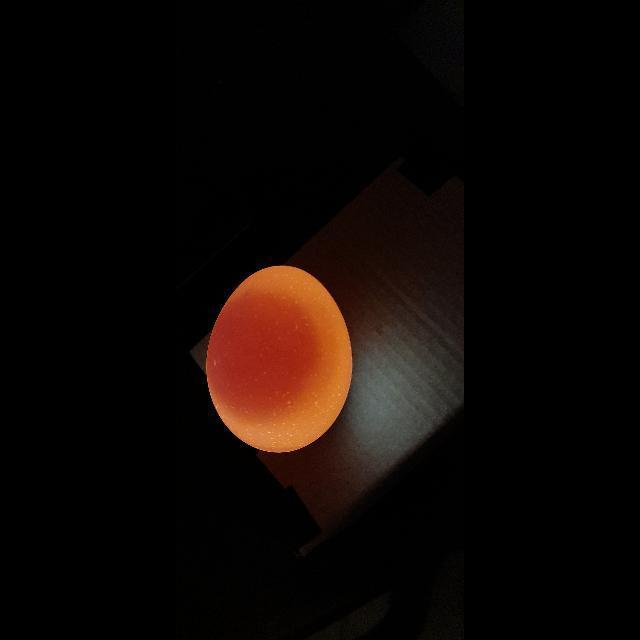Inedible: (206, 260, 354, 456)
